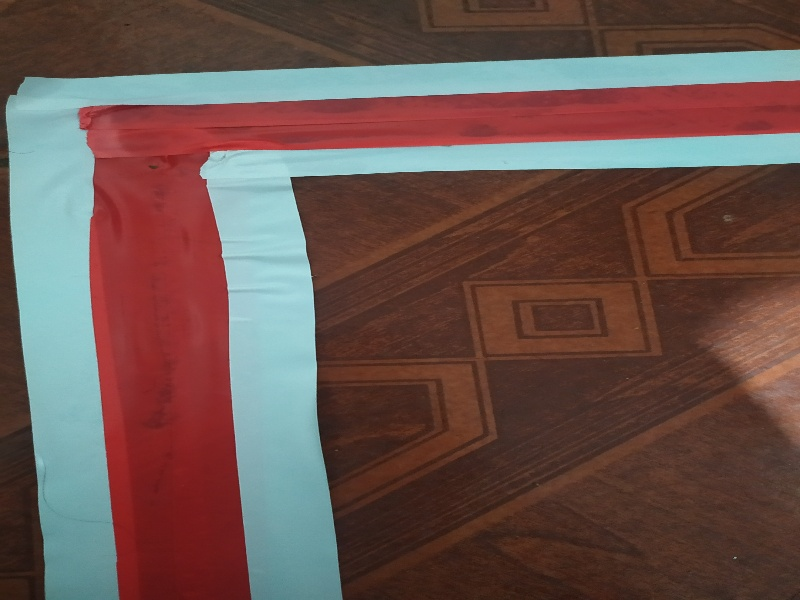direita: (3, 42, 785, 600)
